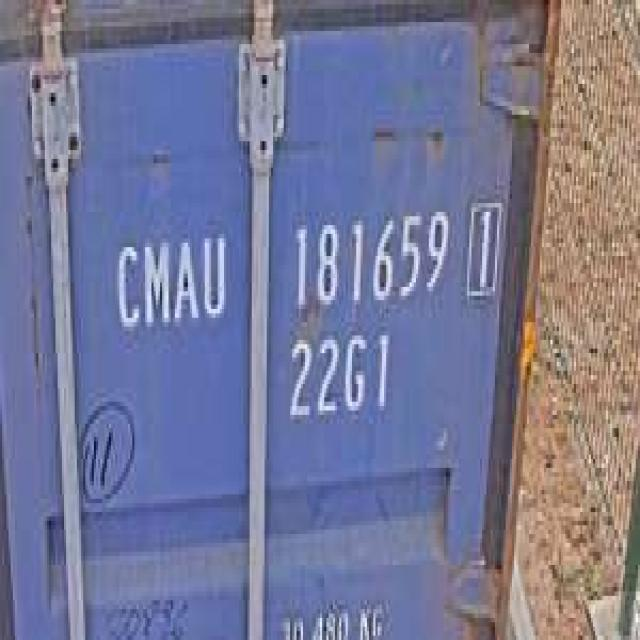dv: (460, 185, 506, 309)
owner: (109, 221, 230, 340)
serial: (284, 194, 452, 314)
size: (282, 322, 394, 428)
